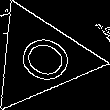O_SE: (3, 26, 77, 90)
